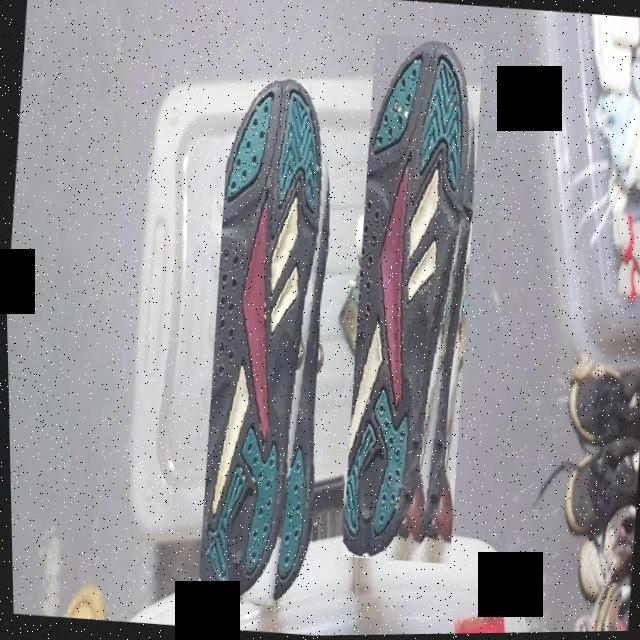shoe: (185, 72, 351, 612), (330, 34, 492, 566)
